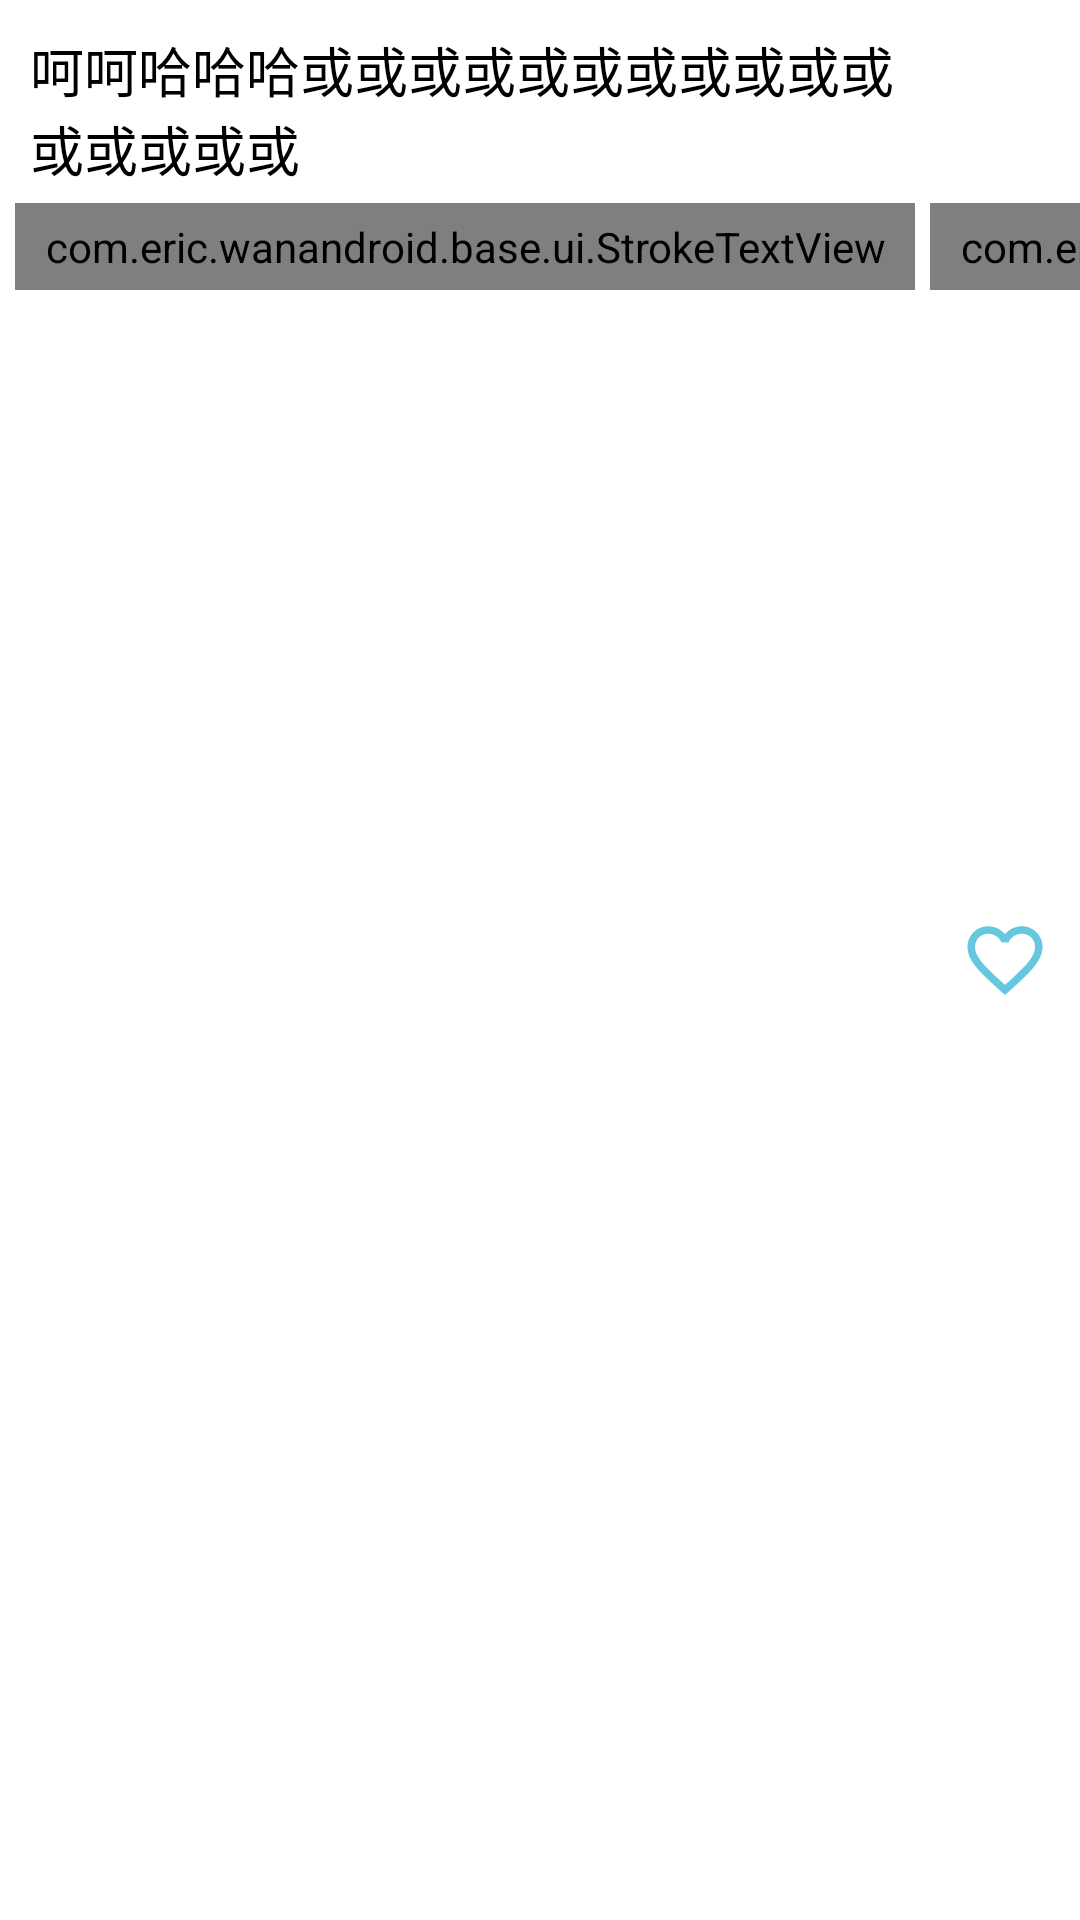

Named icons in this screenshot (1080 × 1920) and their bounding boxes, (x1, y1, x2, y2):
favorite border: (967, 926, 1043, 995)
